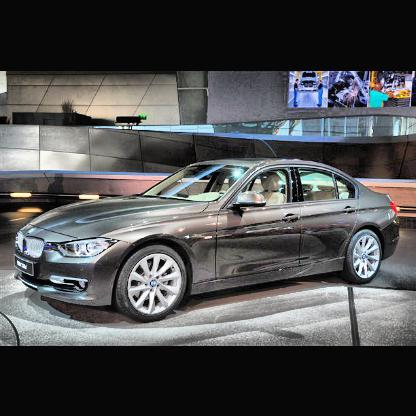BMW 3 Series Sedan 2012: (16, 155, 402, 324)
